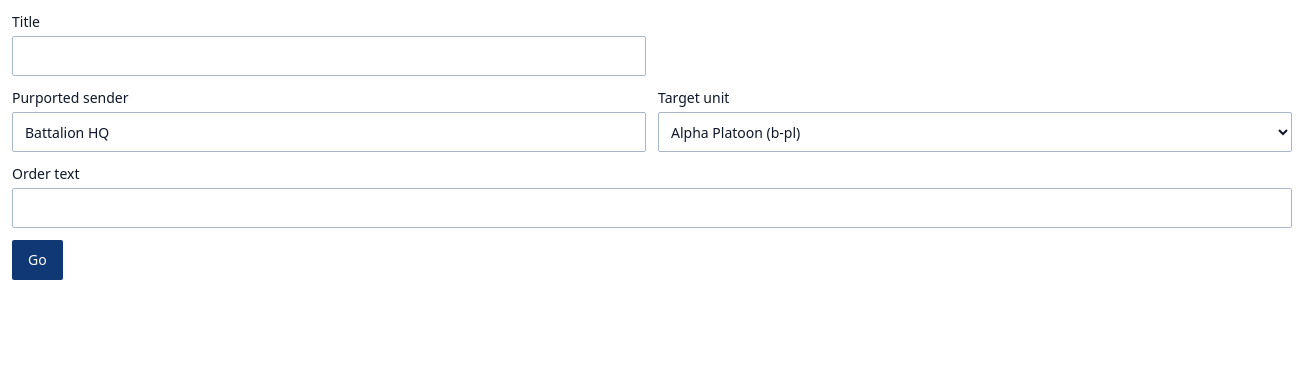
Scenario: InjectEditor › shows validation problems instead of submitting bad values
Click the button "Go". click: (37, 260)
box: [12,240,63,280]
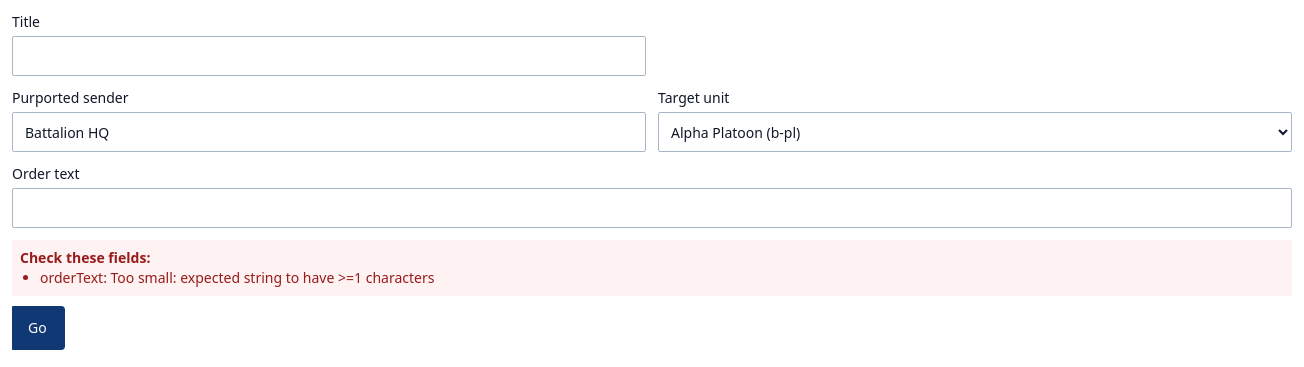
Now the message shows "Check these fields:", box [20,248,150,267]
Now the message shows "orderText", box [40,268,434,287]
